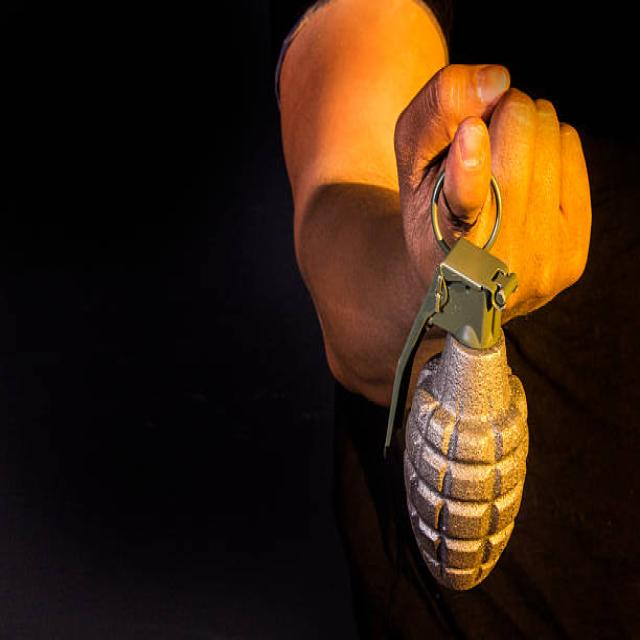grenade: (380, 174, 540, 594)
